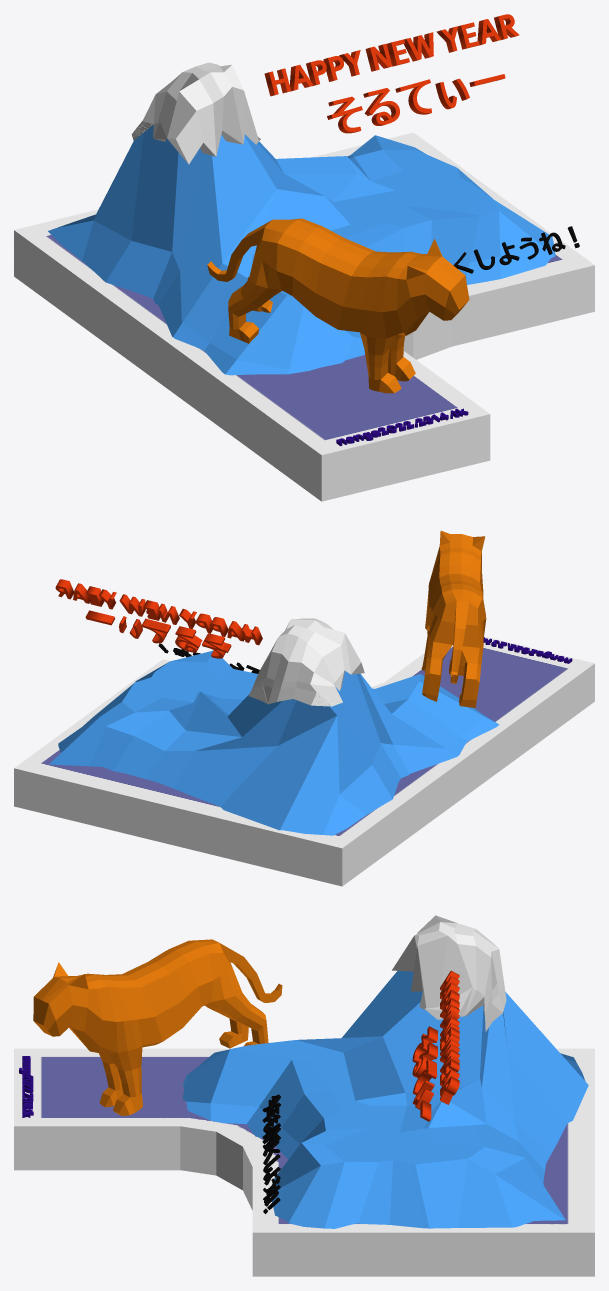
The picture shows the model from 3 angles, top to bottom: view 1: azimuth 30°, elevation 25°; view 2: azimuth 150°, elevation 25°; view 3: azimuth 270°, elevation 25°; orthographic projection. The views are drawn at different scales.
Visible parts, largest first — view 1: huji, ground, Tiger_Plane.001, huji_top, hny, name, message, logo; view 2: huji, ground, Tiger_Plane.001, huji_top, hny, name, logo; view 3: huji, ground, Tiger_Plane.001, huji_top, hny, name, message, logo.
Boxes of the visible parts, bbox=[...] form: huji: bbox=[48, 125, 555, 375]; ground: bbox=[14, 132, 594, 501]; Tiger_Plane.001: bbox=[207, 218, 469, 393]; huji_top: bbox=[131, 62, 260, 164]; hny: bbox=[264, 14, 519, 96]; name: bbox=[327, 74, 505, 133]; message: bbox=[453, 226, 579, 273]; logo: bbox=[336, 408, 468, 446]; huji: bbox=[49, 650, 499, 835]; ground: bbox=[14, 636, 594, 886]; Tiger_Plane.001: bbox=[421, 530, 486, 707]; huji_top: bbox=[248, 618, 364, 706]; hny: bbox=[55, 579, 262, 645]; name: bbox=[85, 610, 231, 658]; logo: bbox=[483, 637, 572, 663]; huji: bbox=[182, 971, 588, 1228]; ground: bbox=[14, 1048, 594, 1276]; Tiger_Plane.001: bbox=[33, 939, 282, 1115]; huji_top: bbox=[392, 915, 506, 1031]; hny: bbox=[440, 970, 459, 1104]; name: bbox=[412, 1026, 437, 1121]; message: bbox=[262, 1094, 280, 1213]; logo: bbox=[19, 1056, 33, 1117].
Size of the model in its own units: 47.68 by 25.42 by 60.
8 materials, 1 textured.
